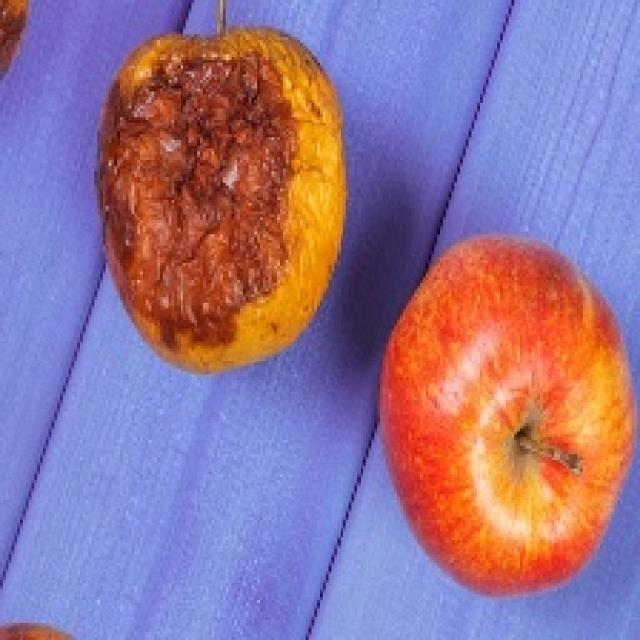rotten_apple: (101, 28, 342, 365)
